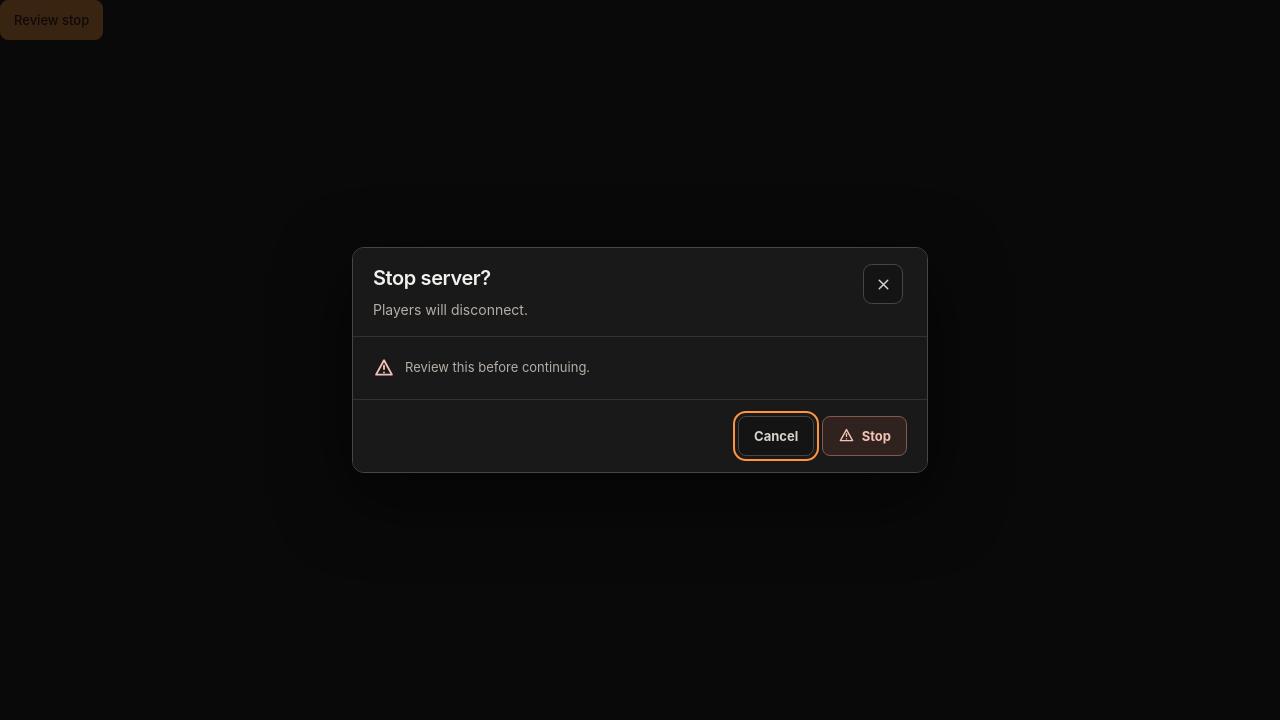
Test: useConfirmation › focuses the safe action and resolves a deliberate confirmation while restoring the opener
The image size is (1280, 720).
Click the button "Stop". click: (865, 436)
box: [822, 416, 907, 456]
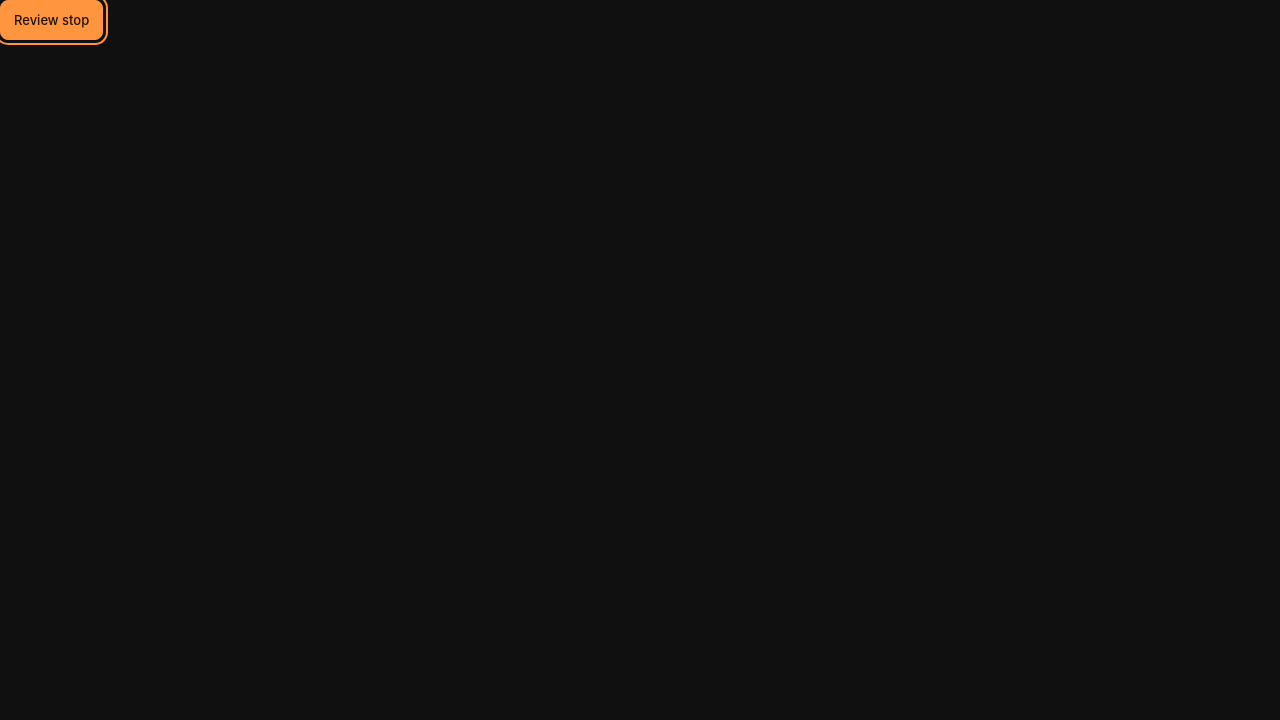
Expected: the dialog is gone
